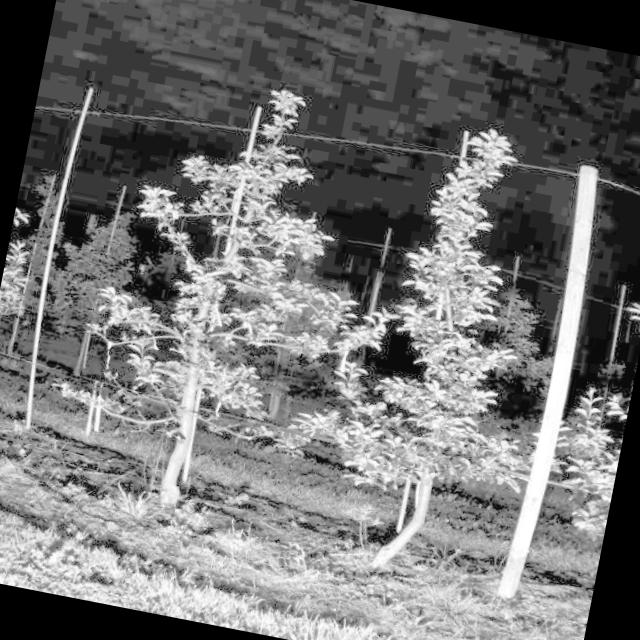Tree: (288, 109, 566, 590), (96, 68, 314, 518), (541, 221, 640, 599)
